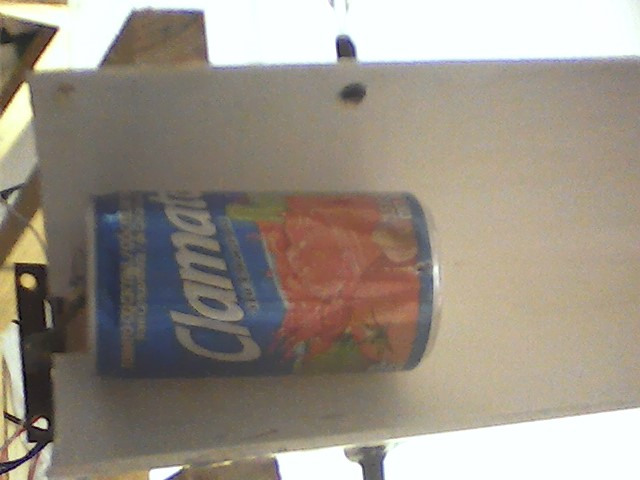lata: (77, 182, 451, 389)
